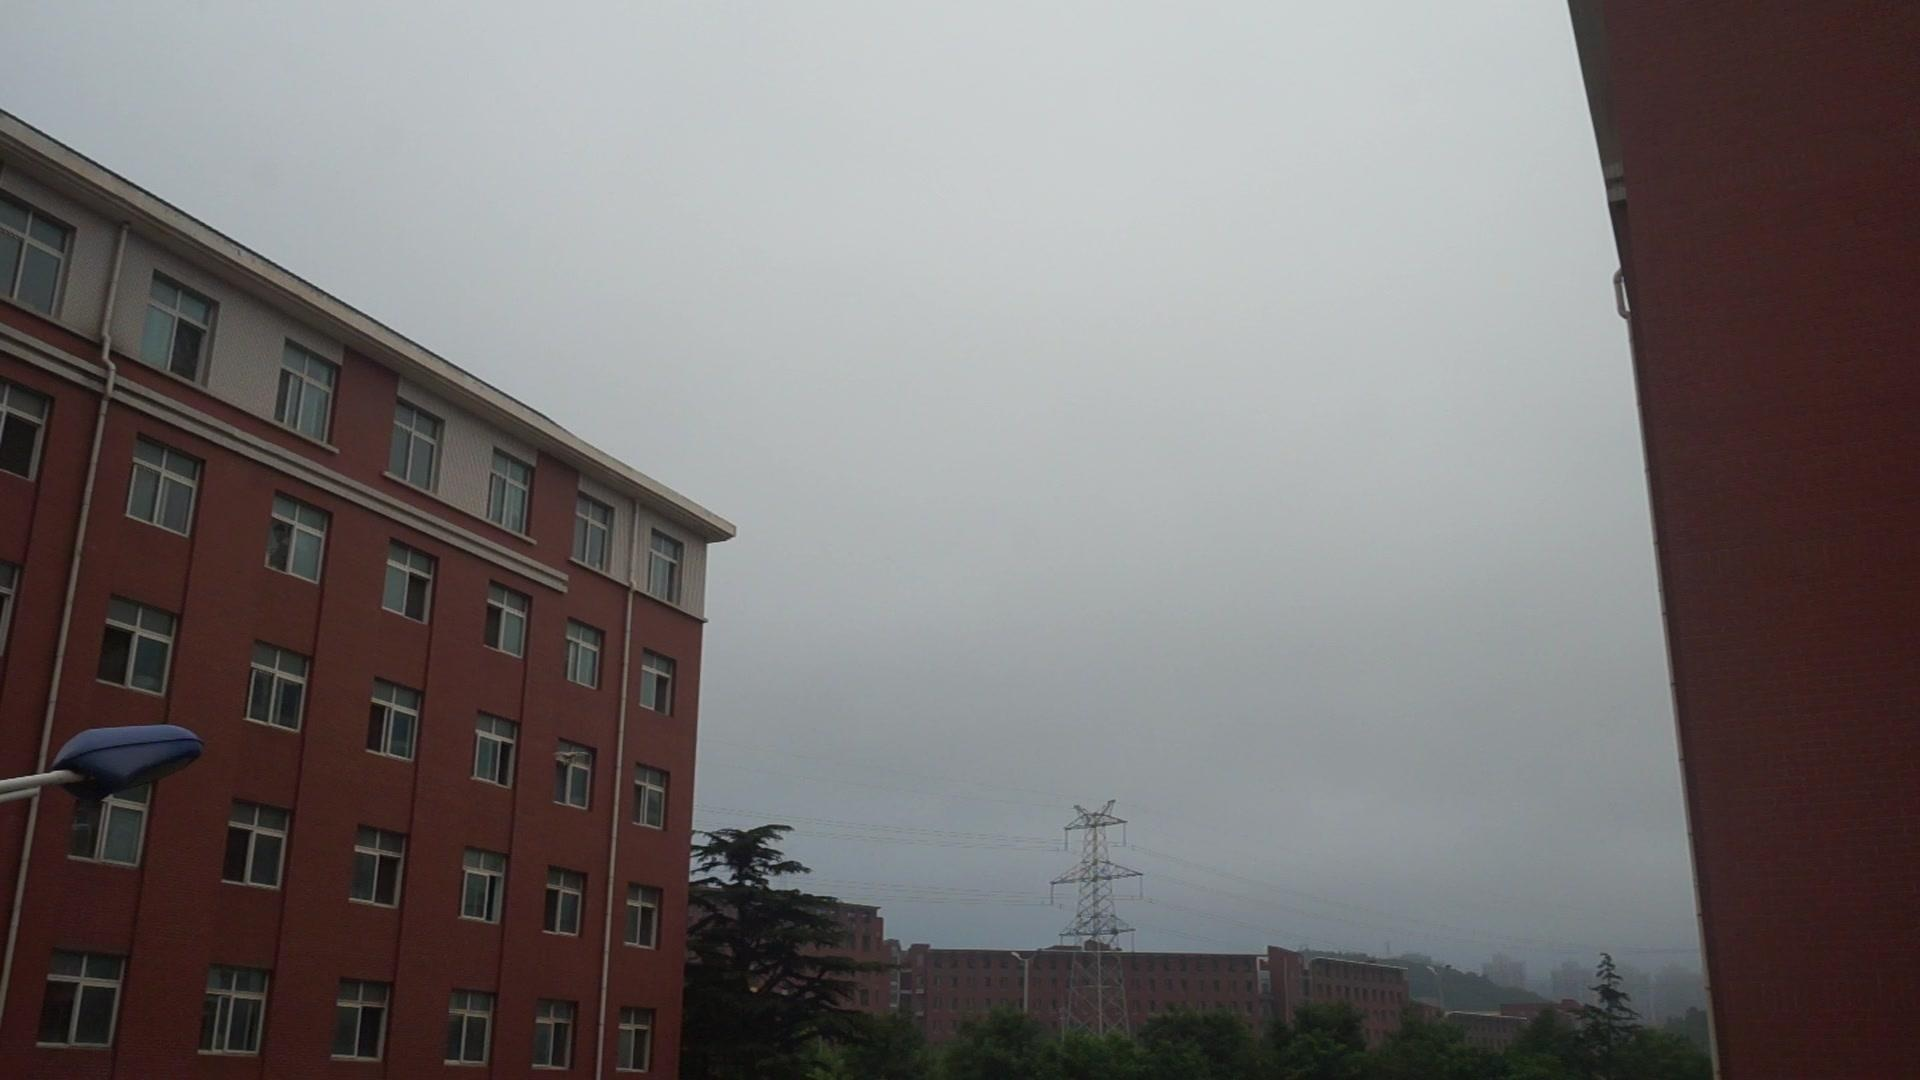UAV: (553, 752, 589, 767)
